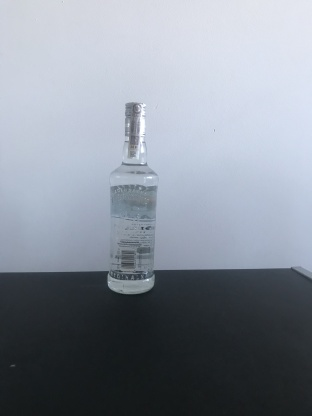nakretka: (122, 99, 148, 139)
